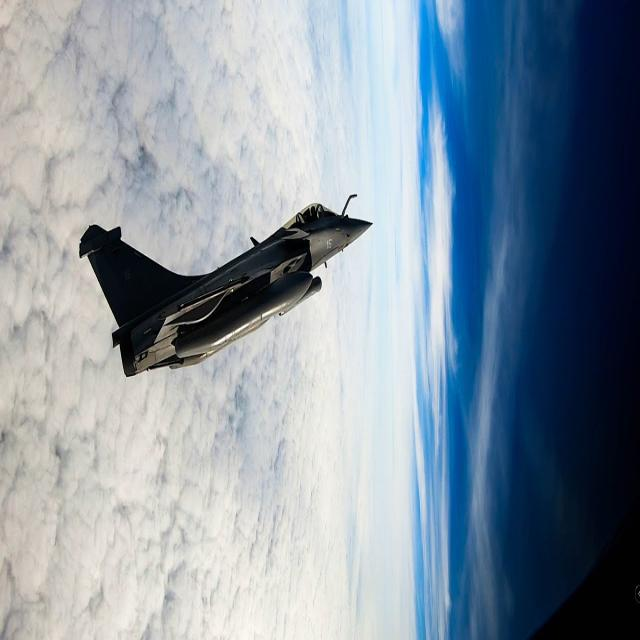MIL_Plane: (79, 193, 373, 378)
